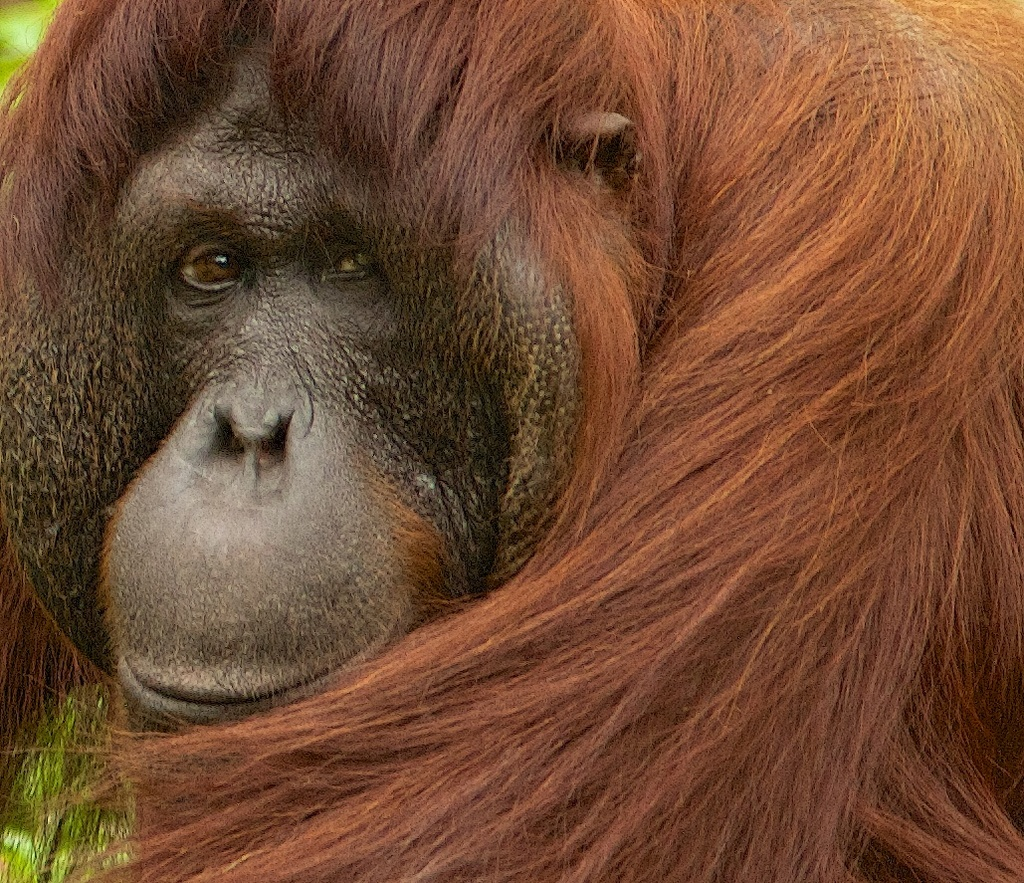Animal: (0, 0, 1022, 882)
